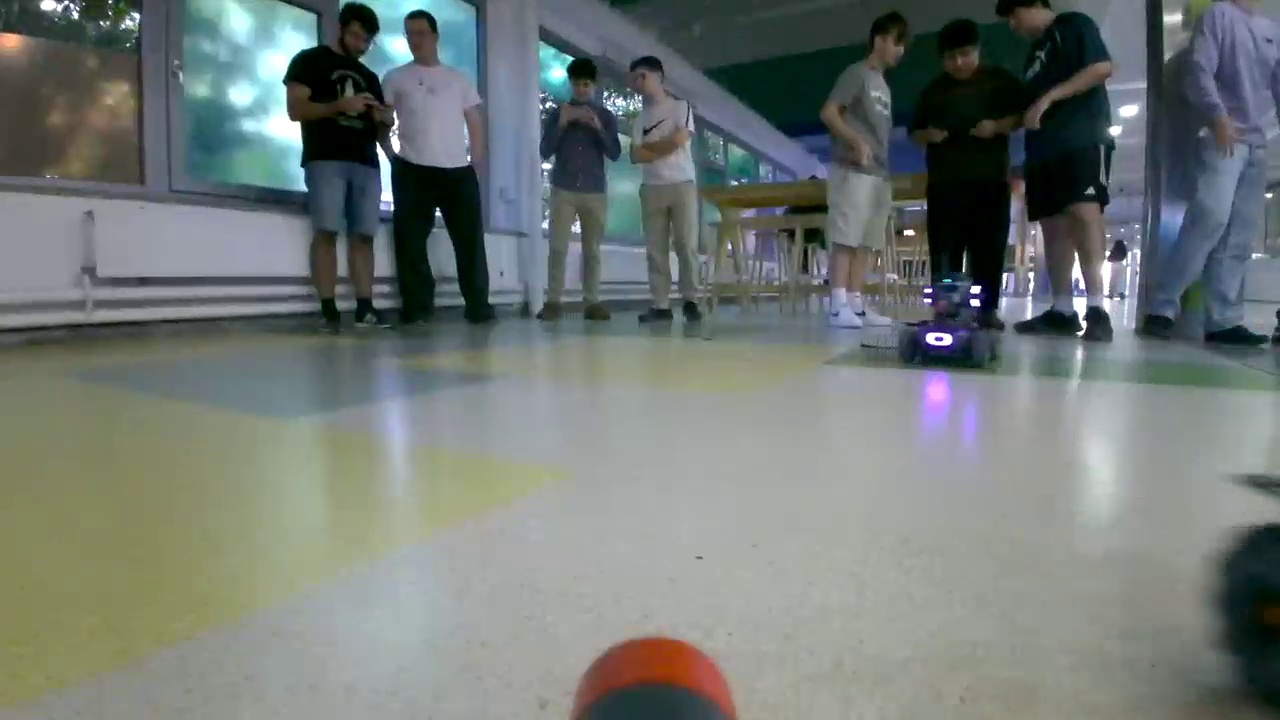robot: (899, 280, 998, 375)
